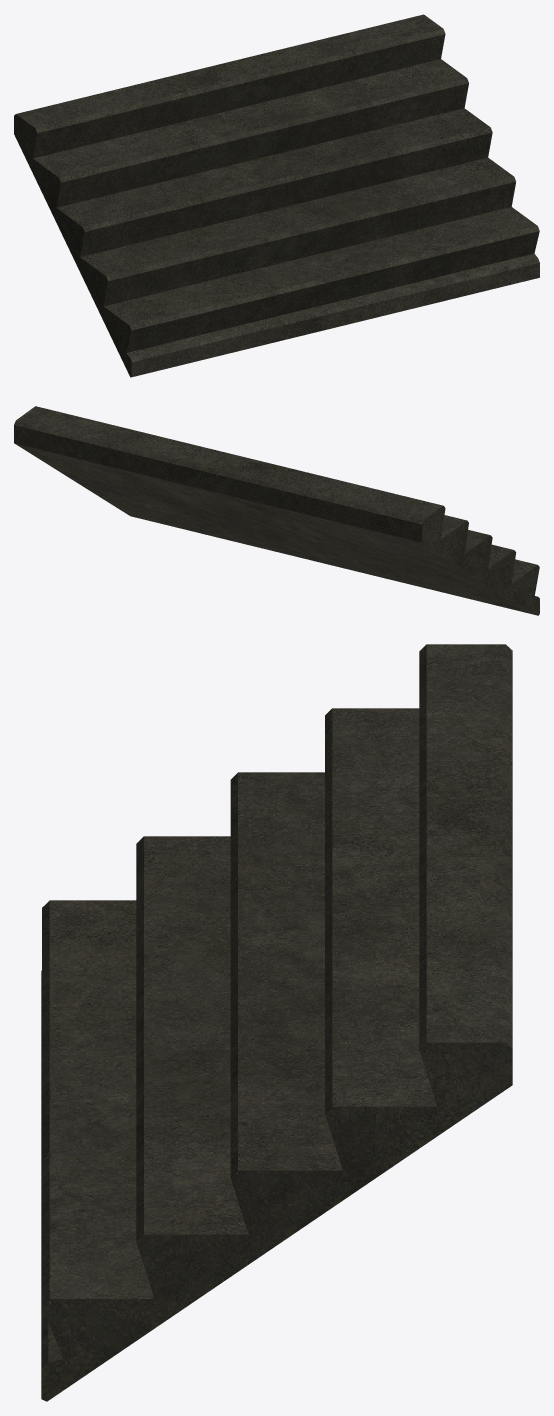
Rendered from stairs_3.glb.
The picture shows the model from 3 angles, top to bottom: view 1: azimuth 30°, elevation 25°; view 2: azimuth 150°, elevation 25°; view 3: azimuth 270°, elevation 25°; orthographic projection. The views are drawn at different scales.
Visible parts, largest first — view 1: stairs_3; view 2: stairs_3; view 3: stairs_3.
Boxes of the visible parts, x1,y1,x2,y2 form: stairs_3: (14,14,539,377); stairs_3: (14,406,539,615); stairs_3: (41,644,512,1401).
Bounding box in the file's own units: 4 × 1.68 × 2.
1 material, 1 textured.
